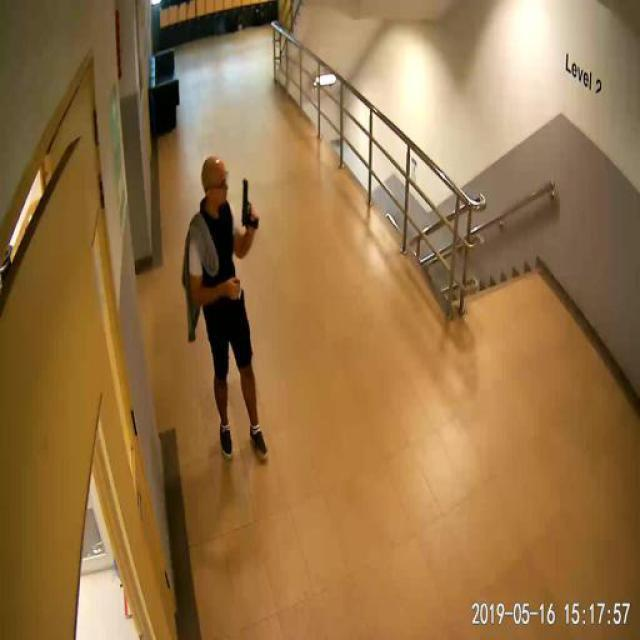weapon: (239, 178, 261, 229)
